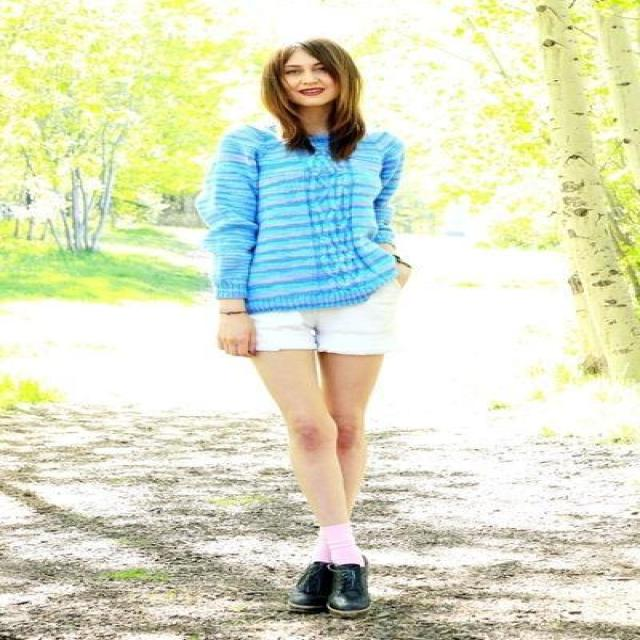jacket: (187, 127, 402, 314)
shoe: (288, 562, 382, 620)
shorts: (251, 281, 426, 354)
